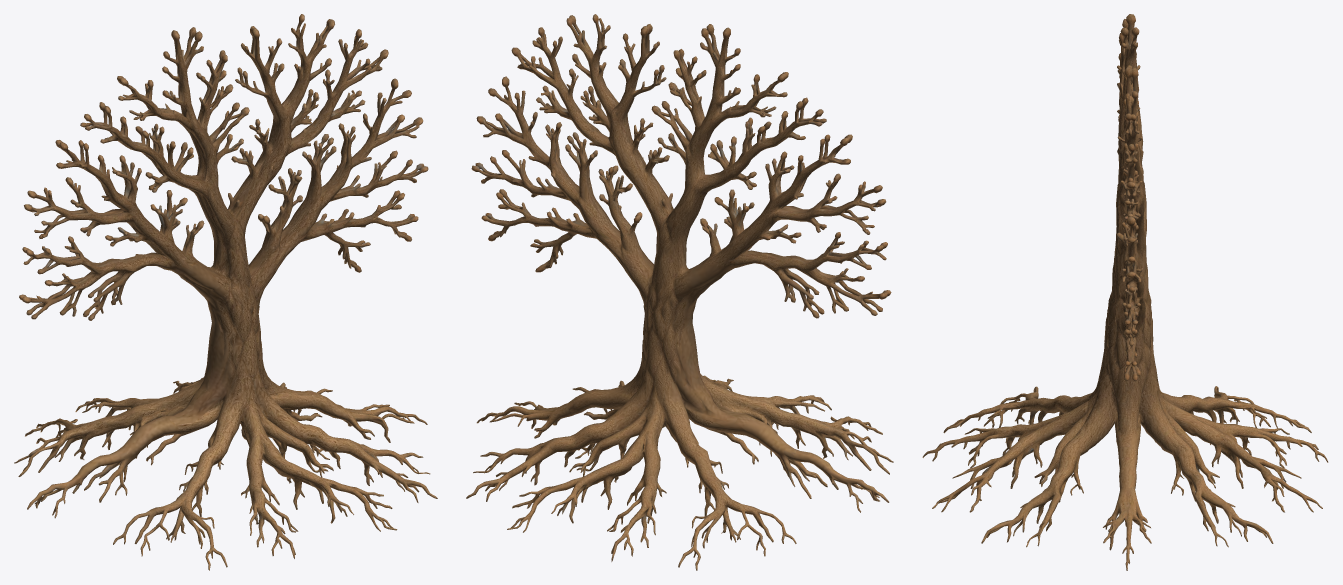
Rendered from season_cherry_bare.glb.
The picture shows the model from 3 angles, left to right: view 1: azimuth 30°, elevation 25°; view 2: azimuth 150°, elevation 25°; view 3: azimuth 270°, elevation 25°; orthographic projection. The views are drawn at different scales.
Visible parts, largest first — view 1: crown, trunk; view 2: crown, trunk; view 3: trunk, crown.
Part boxes in pixels (left/top/right/bottom): crown: left=19, top=14, right=428, bottom=320; trunk: left=14, top=299, right=437, bottom=570; crown: left=471, top=14, right=891, bottom=318; trunk: left=466, top=299, right=893, bottom=570; trunk: left=922, top=311, right=1328, bottom=570; crown: left=1107, top=14, right=1151, bottom=381.
Bounding box in the file's own units: 1.86 × 2 × 1.66.
Materials: 1 (1 with a texture image).
